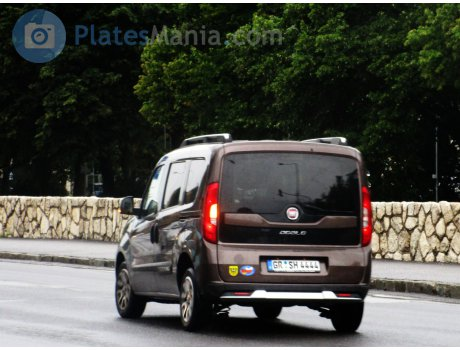License Plates: (265, 258, 319, 269)
